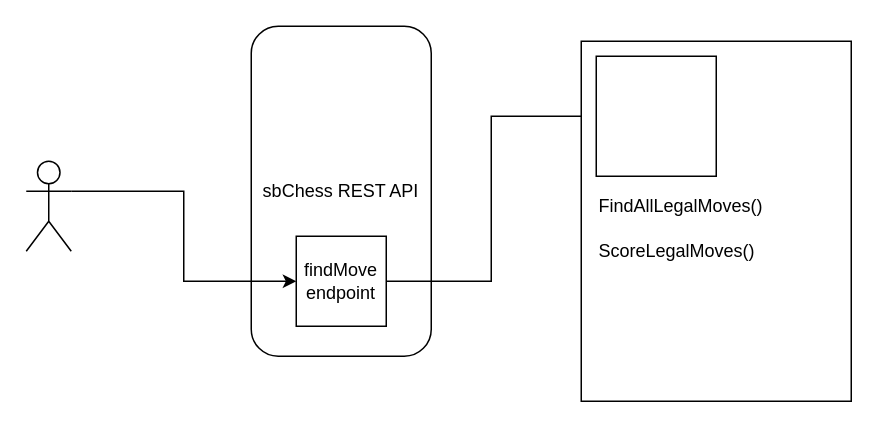
Some shapes in this 878 by 428 pixel diagram are drawn without their labels. Each missing label, with the centre of its shape:
Actor: the point at 48,205
FindMove Controller: the point at 655,115
